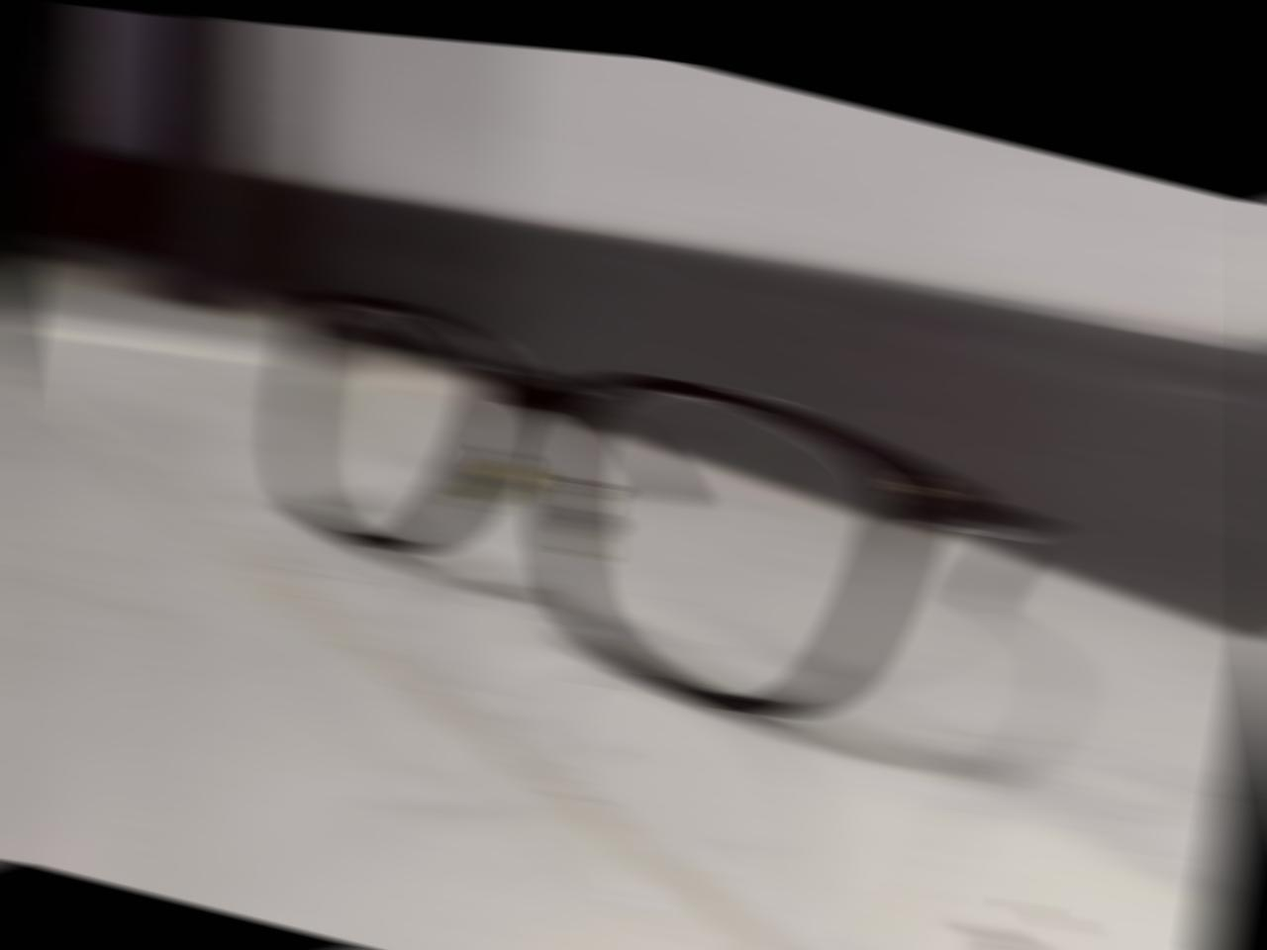glasses: (217, 248, 1079, 797)
